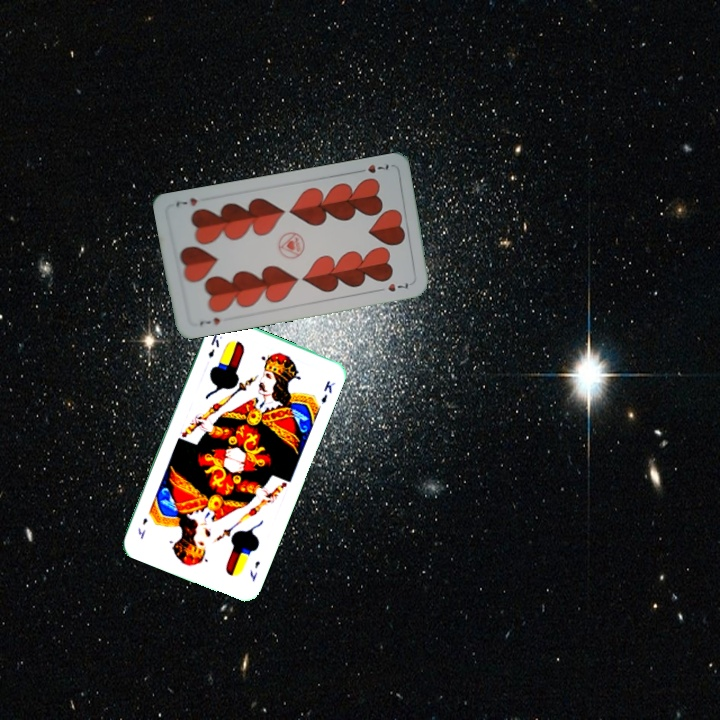EK: (204, 331, 222, 361), (246, 557, 263, 584)
H7: (353, 160, 392, 176), (195, 313, 223, 328)
